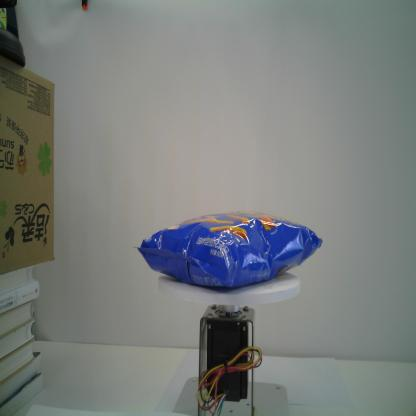Puffed Food: (131, 210, 323, 292)
